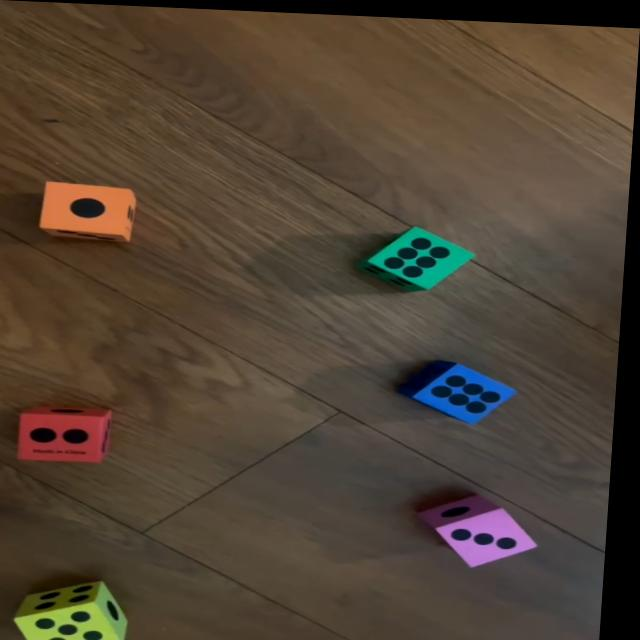blue_block: (403, 351, 526, 421)
red_block: (22, 403, 119, 462)
